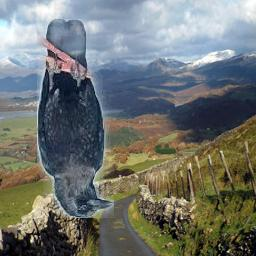Crow: (38, 20, 115, 219)
